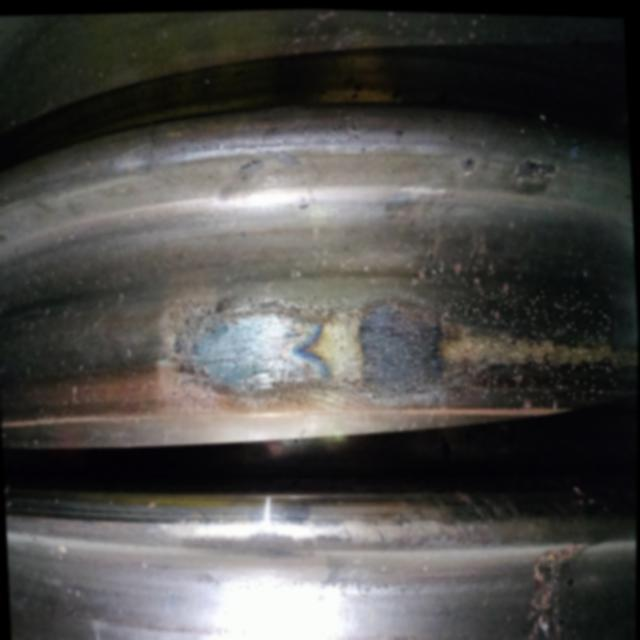flat: (170, 277, 618, 419)
